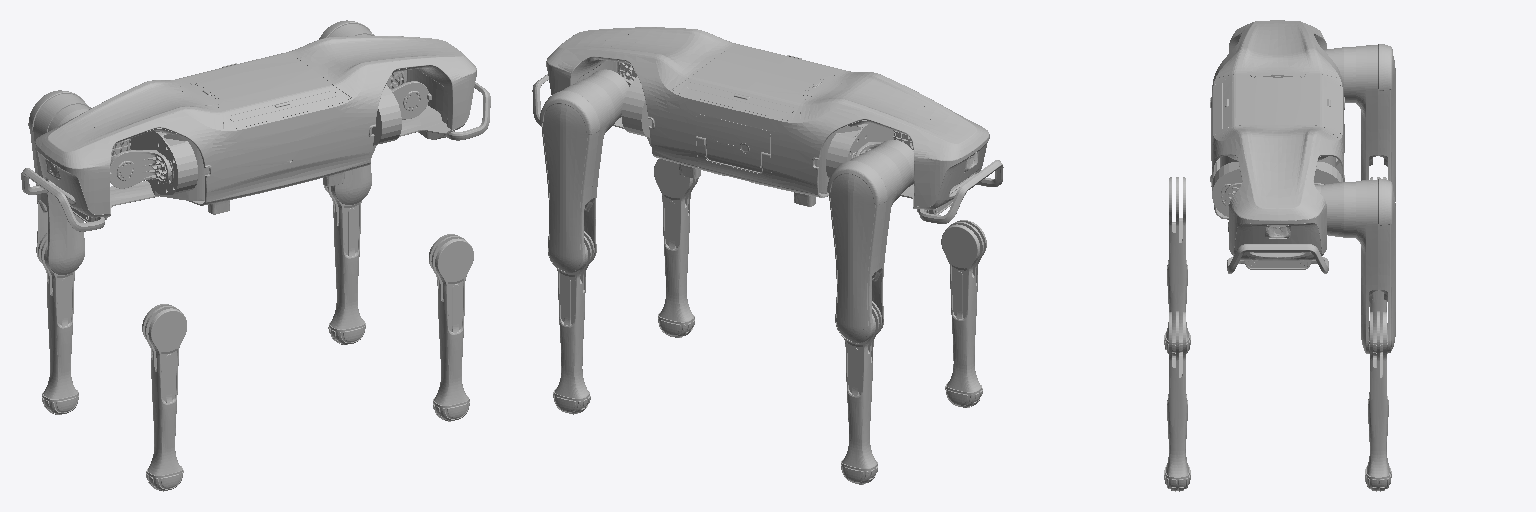
robot.urdf — dobot_quad:
<?xml version="1.0" ?>
<!-- =================================================================================== -->
<!-- |    This document was autogenerated by xacro from dobot_quad.xacro               | -->
<!-- |    EDITING THIS FILE BY HAND IS NOT RECOMMENDED                                 | -->
<!-- =================================================================================== -->
<robot name="dobot_quad">
  <mujoco>
    <compiler balanceinertia="true" discardvisual="false" meshdir="../meshes/"/>
  </mujoco>
  <!-- <link name="world">
</link> -->
  <link name="link_trunk">
    <inertial>
      <origin rpy="0 0 0" xyz="0.002447 0.00046 0.002851"/>
      <mass value="10.249"/>
      <inertia ixx="45881.970E-06" ixy="16.957E-06" ixz="177.574E-06" iyy="247797.819E-06" iyz="41.872E-06" izz="268476.829E-06"/>
    </inertial>
    <visual>
      <origin rpy="0 0 0" xyz="0 0 0"/>
      <geometry>
        <mesh filename="package://dobot_quad/meshes/trunk.STL" scale="1 1 1"/>
      </geometry>
      <material name="">
        <color rgba="0.752941176470588 0.752941176470588 0.752941176470588 1"/>
      </material>
    </visual>
    <collision>
      <origin rpy="0 0 0" xyz="0 0 0"/>
      <geometry>
        <box size="0.70 0.18 0.12"/>
      </geometry>
    </collision>
  </link>
  <!-- <joint name="joint_fixed_world" type="floating">
    <origin rpy="0 0 0" xyz="0 0 0.5"/>
    <parent link="world"/>
    <child link="link_trunk"/>
  </joint> -->
  <link name="link_front_left_hip">
    <inertial>
      <origin rpy="0 0 0" xyz="-0.02418 -0.01744 0.0"/>
      <mass value="0.05576"/>
      <inertia ixx="21.088E-06" ixy="1.169e-05" ixz="0.0" iyy="52.90E-06" iyz="0.0" izz="50.03E-06"/>
    </inertial>
    <visual>
      <origin rpy="0 0 0" xyz="0 0 0"/>
      <geometry>
        <mesh filename="package://dobot_quad/meshes/hip.STL" scale="1 1 1"/>
      </geometry>
      <material name="">
        <color rgba="0.752941176470588 0.752941176470588 0.752941176470588 1"/>
      </material>
    </visual>
    <collision>
      <origin rpy="1.5708 0 0" xyz="0 0.08 0"/>
      <geometry>
        <cylinder length="0.04" radius="0.048"/>
      </geometry>
    </collision>
  </link>
  <joint name="joint_front_left_abad" type="revolute">
    <origin rpy="0 0 0" xyz="0.2525 0.062 0"/>
    <parent link="link_trunk"/>
    <child link="link_front_left_hip"/>
    <axis xyz="1 0 0"/>
    <limit effort="23" lower="-0.6632" upper="0.6632" velocity="21"/>
    <armature value="0.01"/>
  </joint>
  <link name="link_front_left_thigh">
    <inertial>
      <origin rpy="0 0 0" xyz="0.00144 -0.04127 -0.02940"/>
      <mass value="1.71551"/>
      <inertia ixx="10737.08420E-06" ixy="-8.637171e-05" ixz="0.00021687284" iyy="8548.74788E-06" iyz="0.00213125546" izz="3618.27220E-06"/>
    </inertial>
    <visual>
      <origin rpy="0 0 0" xyz="0 0 0"/>
      <!-- <geometry>
       <mesh filename="package://dobot_quad/meshes/thigh.STL" scale="1 ${1*y_sign} 1" />
     </geometry> -->
      <geometry>
        <mesh filename="package://dobot_quad/meshes/thigh_l.STL" scale="1 1 1"/>
      </geometry>
      <material name="">
        <color rgba="0.752941176470588 0.752941176470588 0.752941176470588 1"/>
      </material>
    </visual>
    <collision>
      <origin rpy="0 1.5708 0" xyz="0.0 0.0 -0.1075"/>
      <geometry>
        <box size="0.215 0.04 0.06"/>
      </geometry>
    </collision>
  </link>
  <joint name="joint_front_left_thigh_pitch" type="revolute">
    <origin rpy="0 0 0" xyz="0.0  0.097 0.0"/>
    <parent link="link_front_left_hip"/>
    <child link="link_front_left_thigh"/>
    <axis xyz="0 1 0"/>
    <limit effort="23" lower="-2.618" upper="2.618" velocity="23"/>
    <armature value="0.01"/>
  </joint>
  <link name="link_front_left_calf">
    <inertial>
      <origin rpy="0 0 0" xyz="0.0 0.0 -0.1179"/>
      <mass value="0.278"/>
      <inertia ixx="2802.49E-06" ixy="0.465E-06" ixz="-0.476E-06" iyy="2813.548E-06" iyz="-1.741E-06" izz="65.866E-06"/>
    </inertial>
    <visual>
      <origin rpy="0 0 0" xyz="0 0 0"/>
      <geometry>
        <mesh filename="package://dobot_quad/meshes/calf.STL" scale="1 1 1"/>
      </geometry>
      <material name="">
        <color rgba="0.752941176470588 0.752941176470588 0.752941176470588 1"/>
      </material>
    </visual>
    <collision>
      <origin rpy="0 0 0" xyz="0.0 0.0 -0.12"/>
      <geometry>
        <cylinder length="0.25" radius="0.02"/>
      </geometry>
    </collision>
    <!--   <collision>
     <origin rpy="0 0 0" xyz="0.018 0 -0.16" />
     <geometry>
       <cylinder length="0.065" radius="0.011" />
     </geometry>
   </collision>-->
  </link>
  <joint name="joint_front_left_calf_pitch" type="revolute">
    <origin rpy="0 0 0" xyz="0.0 0.0 -0.215"/>
    <parent link="link_front_left_thigh"/>
    <child link="link_front_left_calf"/>
    <axis xyz="0 1 0"/>
    <limit effort="55" lower="-2.53" upper="2.53" velocity="21"/>
    <armature value="0.025"/>
  </joint>
  <link name="link_front_left_foot">
    <inertial>
      <origin rpy="0 0 0" xyz="0 0 0"/>
      <mass value="0.05"/>
      <inertia ixx="9.6e-06" ixy="0" ixz="0" iyy="9.6e-06" iyz="0" izz="9.6e-06"/>
    </inertial>
    <collision>
      <origin rpy="0 0 0" xyz="0.0 0.0 0.0"/>
      <geometry>
        <sphere radius="0.032"/>
      </geometry>
    </collision>
  </link>
  <joint name="joint_front_left_foot" type="fixed">
    <origin rpy="0 0 0" xyz="0 0 -0.24"/>
    <parent link="link_front_left_calf"/>
    <child link="link_front_left_foot"/>
    <axis xyz="0 0 0"/>
  </joint>
  <link name="link_front_right_hip">
    <inertial>
      <origin rpy="0 0 0" xyz="-0.02418 0.01744 0.0"/>
      <mass value="0.05576"/>
      <inertia ixx="21.088E-06" ixy="-1.169e-05" ixz="0.0" iyy="52.90E-06" iyz="-0.0" izz="50.03E-06"/>
    </inertial>
    <visual>
      <origin rpy="3.141592653589793 0 0" xyz="0 0 0"/>
      <geometry>
        <mesh filename="package://dobot_quad/meshes/hip.STL" scale="1 1 1"/>
      </geometry>
      <material name="">
        <color rgba="0.752941176470588 0.752941176470588 0.752941176470588 1"/>
      </material>
    </visual>
    <collision>
      <origin rpy="1.5708 0 0" xyz="0 -0.08 0"/>
      <geometry>
        <cylinder length="0.04" radius="0.048"/>
      </geometry>
    </collision>
  </link>
  <joint name="joint_front_right_abad" type="revolute">
    <origin rpy="0 0 0" xyz="0.2525 -0.062 0"/>
    <parent link="link_trunk"/>
    <child link="link_front_right_hip"/>
    <axis xyz="1 0 0"/>
    <limit effort="23" lower="-0.6632" upper="0.6632" velocity="21"/>
    <armature value="0.01"/>
  </joint>
  <link name="link_front_right_thigh">
    <inertial>
      <origin rpy="0 0 0" xyz="0.00144 0.04127 -0.02940"/>
      <mass value="1.71551"/>
      <inertia ixx="10737.08420E-06" ixy="8.637171e-05" ixz="0.00021687284" iyy="8548.74788E-06" iyz="-0.00213125546" izz="3618.27220E-06"/>
    </inertial>
    <visual>
      <origin rpy="0 0 0" xyz="0 0 0"/>
      <!-- <geometry>
       <mesh filename="package://dobot_quad/meshes/thigh.STL" scale="1 ${1*y_sign} 1" />
     </geometry> -->
      <geometry>
        <mesh filename="package://dobot_quad/meshes/thigh_r.STL" scale="1 -1 1"/>
      </geometry>
      <material name="">
        <color rgba="0.752941176470588 0.752941176470588 0.752941176470588 1"/>
      </material>
    </visual>
    <collision>
      <origin rpy="0 1.5708 0" xyz="0.0 0.0 -0.1075"/>
      <geometry>
        <box size="0.215 0.04 0.06"/>
      </geometry>
    </collision>
  </link>
  <joint name="joint_front_right_thigh_pitch" type="revolute">
    <origin rpy="0 0 0" xyz="0.0  -0.097 0.0"/>
    <parent link="link_front_right_hip"/>
    <child link="link_front_right_thigh"/>
    <axis xyz="0 1 0"/>
    <limit effort="23" lower="-2.618" upper="2.618" velocity="23"/>
    <armature value="0.01"/>
  </joint>
  <link name="link_front_right_calf">
    <inertial>
      <origin rpy="0 0 0" xyz="0.0 0.0 -0.1179"/>
      <mass value="0.278"/>
      <inertia ixx="2802.49E-06" ixy="0.465E-06" ixz="-0.476E-06" iyy="2813.548E-06" iyz="-1.741E-06" izz="65.866E-06"/>
    </inertial>
    <visual>
      <origin rpy="0 0 0" xyz="0 0 0"/>
      <geometry>
        <mesh filename="package://dobot_quad/meshes/calf.STL" scale="1 1 1"/>
      </geometry>
      <material name="">
        <color rgba="0.752941176470588 0.752941176470588 0.752941176470588 1"/>
      </material>
    </visual>
    <collision>
      <origin rpy="0 0 0" xyz="0.0 0.0 -0.12"/>
      <geometry>
        <cylinder length="0.25" radius="0.02"/>
      </geometry>
    </collision>
    <!--   <collision>
     <origin rpy="0 0 0" xyz="0.018 0 -0.16" />
     <geometry>
       <cylinder length="0.065" radius="0.011" />
     </geometry>
   </collision>-->
  </link>
  <joint name="joint_front_right_calf_pitch" type="revolute">
    <origin rpy="0 0 0" xyz="0.0 0.0 -0.215"/>
    <parent link="link_front_right_thigh"/>
    <child link="link_front_right_calf"/>
    <axis xyz="0 1 0"/>
    <limit effort="55" lower="-2.53" upper="2.53" velocity="21"/>
    <armature value="0.025"/>
  </joint>
  <link name="link_front_right_foot">
    <inertial>
      <origin rpy="0 0 0" xyz="0 0 0"/>
      <mass value="0.05"/>
      <inertia ixx="9.6e-06" ixy="0" ixz="0" iyy="9.6e-06" iyz="0" izz="9.6e-06"/>
    </inertial>
    <collision>
      <origin rpy="0 0 0" xyz="0.0 0.0 0.0"/>
      <geometry>
        <sphere radius="0.032"/>
      </geometry>
    </collision>
  </link>
  <joint name="joint_front_right_foot" type="fixed">
    <origin rpy="0 0 0" xyz="0 0 -0.24"/>
    <parent link="link_front_right_calf"/>
    <child link="link_front_right_foot"/>
    <axis xyz="0 0 0"/>
  </joint>
  <link name="link_rear_left_hip">
    <inertial>
      <origin rpy="0 0 0" xyz="0.02418 -0.01744 0.0"/>
      <mass value="0.05576"/>
      <inertia ixx="21.088E-06" ixy="-1.169e-05" ixz="-0.0" iyy="52.90E-06" iyz="0.0" izz="50.03E-06"/>
    </inertial>
    <visual>
      <origin rpy="0 3.141592653589793 0" xyz="0 0 0"/>
      <geometry>
        <mesh filename="package://dobot_quad/meshes/hip.STL" scale="1 1 1"/>
      </geometry>
      <material name="">
        <color rgba="0.752941176470588 0.752941176470588 0.752941176470588 1"/>
      </material>
    </visual>
    <collision>
      <origin rpy="1.5708 0 0" xyz="0 0.08 0"/>
      <geometry>
        <cylinder length="0.04" radius="0.048"/>
      </geometry>
    </collision>
  </link>
  <joint name="joint_rear_left_abad" type="revolute">
    <origin rpy="0 0 0" xyz="-0.2525 0.062 0"/>
    <parent link="link_trunk"/>
    <child link="link_rear_left_hip"/>
    <axis xyz="1 0 0"/>
    <limit effort="23" lower="-0.6632" upper="0.6632" velocity="21"/>
    <armature value="0.01"/>
  </joint>
  <link name="link_rear_left_thigh">
    <inertial>
      <origin rpy="0 0 0" xyz="-0.00144 -0.04127 -0.02940"/>
      <mass value="1.71551"/>
      <inertia ixx="10737.08420E-06" ixy="8.637171e-05" ixz="-0.00021687284" iyy="8548.74788E-06" iyz="0.00213125546" izz="3618.27220E-06"/>
    </inertial>
    <visual>
      <origin rpy="0 0 0" xyz="0 0 0"/>
      <!-- <geometry>
       <mesh filename="package://dobot_quad/meshes/thigh.STL" scale="1 ${1*y_sign} 1" />
     </geometry> -->
      <geometry>
        <mesh filename="package://dobot_quad/meshes/thigh_l.STL" scale="1 1 1"/>
      </geometry>
      <material name="">
        <color rgba="0.752941176470588 0.752941176470588 0.752941176470588 1"/>
      </material>
    </visual>
    <collision>
      <origin rpy="0 1.5708 0" xyz="0.0 0.0 -0.1075"/>
      <geometry>
        <box size="0.215 0.04 0.06"/>
      </geometry>
    </collision>
  </link>
  <joint name="joint_rear_left_thigh_pitch" type="revolute">
    <origin rpy="0 0 0" xyz="-0.0  0.097 0.0"/>
    <parent link="link_rear_left_hip"/>
    <child link="link_rear_left_thigh"/>
    <axis xyz="0 1 0"/>
    <limit effort="23" lower="-2.618" upper="2.618" velocity="21"/>
    <armature value="0.01"/>
  </joint>
  <link name="link_rear_left_calf">
    <inertial>
      <origin rpy="0 0 0" xyz="0.0 0.0 -0.1179"/>
      <mass value="0.278"/>
      <inertia ixx="2802.49E-06" ixy="0.465E-06" ixz="-0.476E-06" iyy="2813.548E-06" iyz="-1.741E-06" izz="65.866E-06"/>
    </inertial>
    <visual>
      <origin rpy="0 0 0" xyz="0 0 0"/>
      <geometry>
        <mesh filename="package://dobot_quad/meshes/calf.STL" scale="1 1 1"/>
      </geometry>
      <material name="">
        <color rgba="0.752941176470588 0.752941176470588 0.752941176470588 1"/>
      </material>
    </visual>
    <collision>
      <origin rpy="0 0 0" xyz="0.0 0.0 -0.12"/>
      <geometry>
        <cylinder length="0.25" radius="0.02"/>
      </geometry>
    </collision>
    <!--   <collision>
     <origin rpy="0 0 0" xyz="0.018 0 -0.16" />
     <geometry>
       <cylinder length="0.065" radius="0.011" />
     </geometry>
   </collision>-->
  </link>
  <joint name="joint_rear_left_calf_pitch" type="revolute">
    <origin rpy="0 0 0" xyz="0.0 0.0 -0.215"/>
    <parent link="link_rear_left_thigh"/>
    <child link="link_rear_left_calf"/>
    <axis xyz="0 1 0"/>
    <limit effort="55" lower="-2.53" upper="2.53" velocity="21"/>
    <armature value="0.025"/>
  </joint>
  <link name="link_rear_left_foot">
    <inertial>
      <origin rpy="0 0 0" xyz="0 0 0"/>
      <mass value="0.05"/>
      <inertia ixx="9.6e-06" ixy="0" ixz="0" iyy="9.6e-06" iyz="0" izz="9.6e-06"/>
    </inertial>
    <collision>
      <origin rpy="0 0 0" xyz="0.0 0.0 0.0"/>
      <geometry>
        <sphere radius="0.032"/>
      </geometry>
    </collision>
  </link>
  <joint name="joint_rear_left_foot" type="fixed">
    <origin rpy="0 0 0" xyz="0 0 -0.24"/>
    <parent link="link_rear_left_calf"/>
    <child link="link_rear_left_foot"/>
    <axis xyz="0 0 0"/>
  </joint>
  <link name="link_rear_right_hip">
    <inertial>
      <origin rpy="0 0 0" xyz="0.02418 0.01744 0.0"/>
      <mass value="0.05576"/>
      <inertia ixx="21.088E-06" ixy="1.169e-05" ixz="-0.0" iyy="52.90E-06" iyz="-0.0" izz="50.03E-06"/>
    </inertial>
    <visual>
      <origin rpy="3.141592653589793 3.141592653589793 0" xyz="0 0 0"/>
      <geometry>
        <mesh filename="package://dobot_quad/meshes/hip.STL" scale="1 1 1"/>
      </geometry>
      <material name="">
        <color rgba="0.752941176470588 0.752941176470588 0.752941176470588 1"/>
      </material>
    </visual>
    <collision>
      <origin rpy="1.5708 0 0" xyz="0 -0.08 0"/>
      <geometry>
        <cylinder length="0.04" radius="0.048"/>
      </geometry>
    </collision>
  </link>
  <joint name="joint_rear_right_abad" type="revolute">
    <origin rpy="0 0 0" xyz="-0.2525 -0.062 0"/>
    <parent link="link_trunk"/>
    <child link="link_rear_right_hip"/>
    <axis xyz="1 0 0"/>
    <limit effort="23" lower="-0.6632" upper="0.6632" velocity="21"/>
    <armature value="0.01"/>
  </joint>
  <link name="link_rear_right_thigh">
    <inertial>
      <origin rpy="0 0 0" xyz="-0.00144 0.04127 -0.02940"/>
      <mass value="1.71551"/>
      <inertia ixx="10737.08420E-06" ixy="-8.637171e-05" ixz="-0.00021687284" iyy="8548.74788E-06" iyz="-0.00213125546" izz="3618.27220E-06"/>
    </inertial>
    <visual>
      <origin rpy="0 0 0" xyz="0 0 0"/>
      <!-- <geometry>
       <mesh filename="package://dobot_quad/meshes/thigh.STL" scale="1 ${1*y_sign} 1" />
     </geometry> -->
      <geometry>
        <mesh filename="package://dobot_quad/meshes/thigh_r.STL" scale="1 -1 1"/>
      </geometry>
      <material name="">
        <color rgba="0.752941176470588 0.752941176470588 0.752941176470588 1"/>
      </material>
    </visual>
    <collision>
      <origin rpy="0 1.5708 0" xyz="0.0 0.0 -0.1075"/>
      <geometry>
        <box size="0.215 0.04 0.06"/>
      </geometry>
    </collision>
  </link>
  <joint name="joint_rear_right_thigh_pitch" type="revolute">
    <origin rpy="0 0 0" xyz="-0.0  -0.097 0.0"/>
    <parent link="link_rear_right_hip"/>
    <child link="link_rear_right_thigh"/>
    <axis xyz="0 1 0"/>
    <limit effort="23" lower="-2.618" upper="2.618" velocity="21"/>
    <armature value="0.01"/>
  </joint>
  <link name="link_rear_right_calf">
    <inertial>
      <origin rpy="0 0 0" xyz="0.0 0.0 -0.1179"/>
      <mass value="0.278"/>
      <inertia ixx="2802.49E-06" ixy="0.465E-06" ixz="-0.476E-06" iyy="2813.548E-06" iyz="-1.741E-06" izz="65.866E-06"/>
    </inertial>
    <visual>
      <origin rpy="0 0 0" xyz="0 0 0"/>
      <geometry>
        <mesh filename="package://dobot_quad/meshes/calf.STL" scale="1 1 1"/>
      </geometry>
      <material name="">
        <color rgba="0.752941176470588 0.752941176470588 0.752941176470588 1"/>
      </material>
    </visual>
    <collision>
      <origin rpy="0 0 0" xyz="0.0 0.0 -0.12"/>
      <geometry>
        <cylinder length="0.25" radius="0.02"/>
      </geometry>
    </collision>
    <!--   <collision>
     <origin rpy="0 0 0" xyz="0.018 0 -0.16" />
     <geometry>
       <cylinder length="0.065" radius="0.011" />
     </geometry>
   </collision>-->
  </link>
  <joint name="joint_rear_right_calf_pitch" type="revolute">
    <origin rpy="0 0 0" xyz="0.0 0.0 -0.215"/>
    <parent link="link_rear_right_thigh"/>
    <child link="link_rear_right_calf"/>
    <axis xyz="0 1 0"/>
    <limit effort="55" lower="-2.53" upper="2.53" velocity="21"/>
    <armature value="0.025"/>
  </joint>
  <link name="link_rear_right_foot">
    <inertial>
      <origin rpy="0 0 0" xyz="0 0 0"/>
      <mass value="0.05"/>
      <inertia ixx="9.6e-06" ixy="0" ixz="0" iyy="9.6e-06" iyz="0" izz="9.6e-06"/>
    </inertial>
    <collision>
      <origin rpy="0 0 0" xyz="0.0 0.0 0.0"/>
      <geometry>
        <sphere radius="0.032"/>
      </geometry>
    </collision>
  </link>
  <joint name="joint_rear_right_foot" type="fixed">
    <origin rpy="0 0 0" xyz="0 0 -0.24"/>
    <parent link="link_rear_right_calf"/>
    <child link="link_rear_right_foot"/>
    <axis xyz="0 0 0"/>
  </joint>
</robot>

--- Render facts (derived) ---
3 views of the same robot in one strip: view 1: azimuth 30°, elevation 25°; view 2: azimuth 150°, elevation 25°; view 3: azimuth 270°, elevation 25° (orthographic).
Model dobot_quad with 17 links and 16 joints (12 revolute, 4 fixed), rooted at link_trunk, posed every joint at zero.
Visible links, largest first — view 1: link_trunk, link_rear_right_calf, link_front_right_calf, link_rear_left_thigh, link_rear_left_calf, link_front_left_calf, link_rear_right_hip, link_front_left_thigh, link_front_right_hip; view 2: link_trunk, link_rear_left_thigh, link_front_left_thigh, link_rear_right_calf, link_front_right_calf, link_front_left_calf, link_rear_left_calf; view 3: link_trunk, link_front_left_thigh, link_rear_left_thigh, link_front_left_calf, link_front_right_calf, link_rear_right_calf, link_rear_left_calf.
Boxes of the visible links, bbox=[...] form: link_trunk: bbox=[21, 36, 490, 231]; link_rear_right_calf: bbox=[142, 304, 186, 491]; link_front_right_calf: bbox=[429, 234, 473, 421]; link_rear_left_thigh: bbox=[28, 90, 90, 274]; link_rear_left_calf: bbox=[38, 233, 78, 414]; link_front_left_calf: bbox=[325, 186, 365, 344]; link_rear_right_hip: bbox=[110, 150, 172, 188]; link_front_left_thigh: bbox=[319, 20, 406, 204]; link_front_right_hip: bbox=[391, 81, 431, 119]; link_trunk: bbox=[532, 27, 1003, 223]; link_rear_left_thigh: bbox=[827, 140, 913, 343]; link_front_left_thigh: bbox=[540, 69, 628, 272]; link_rear_right_calf: bbox=[941, 220, 986, 407]; link_front_right_calf: bbox=[654, 159, 698, 337]; link_front_left_calf: bbox=[553, 231, 594, 414]; link_rear_left_calf: bbox=[841, 301, 881, 484]; link_trunk: bbox=[1210, 20, 1344, 273]; link_front_left_thigh: bbox=[1315, 178, 1395, 353]; link_rear_left_thigh: bbox=[1324, 44, 1395, 201]; link_front_left_calf: bbox=[1365, 311, 1391, 491]; link_front_right_calf: bbox=[1164, 311, 1190, 491]; link_rear_right_calf: bbox=[1164, 177, 1190, 355]; link_rear_left_calf: bbox=[1369, 177, 1387, 355].
Size in the robot's own frame: 0.7615 by 0.3664 by 0.5769 metres.
11 mesh visuals loaded from 5 distinct referenced files (4 binary STL); not drawn: 2 (reference not matched to a file when rendering).
